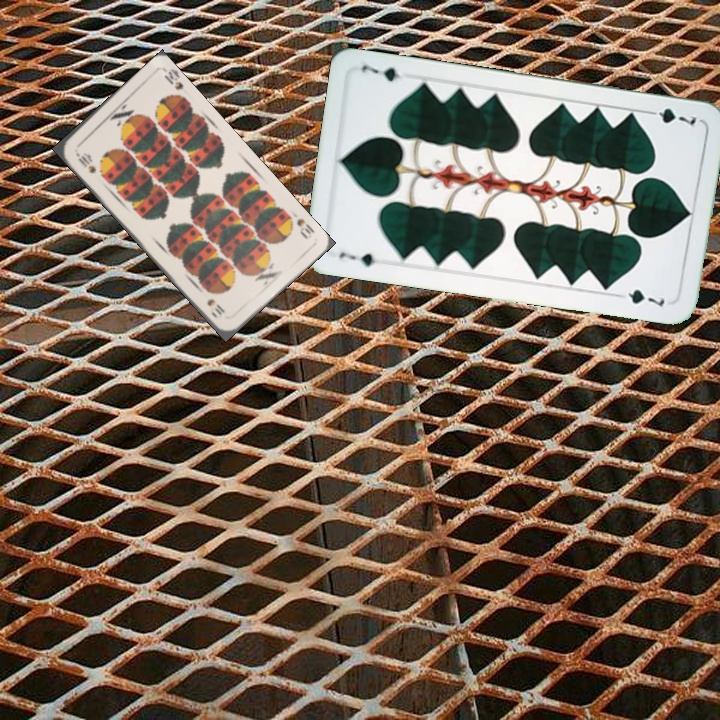G7: (641, 104, 698, 128), (334, 247, 378, 270)
S10: (72, 148, 99, 176), (292, 214, 317, 241)
